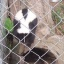skunk: (13, 9, 37, 47)
